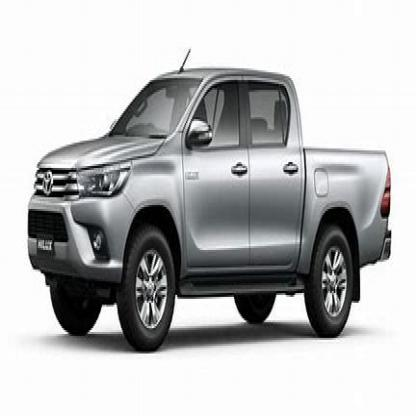light_vehicle: (22, 56, 399, 352)
